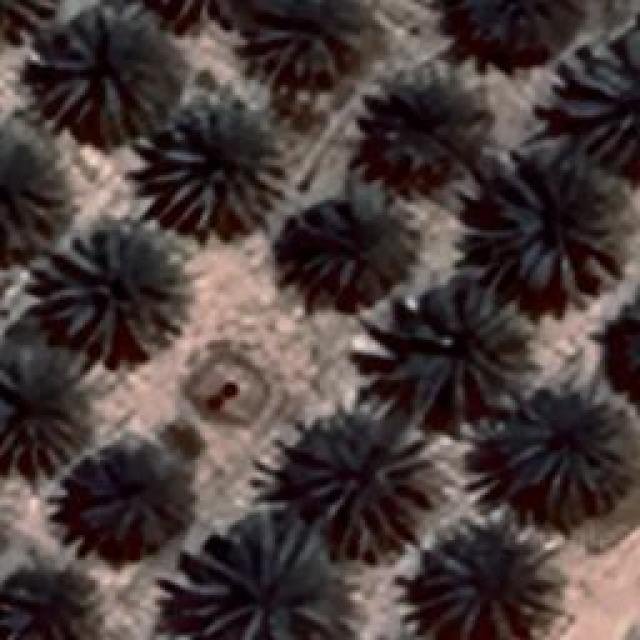PalmTree: (72, 24, 512, 136), (292, 408, 450, 560), (470, 162, 630, 300), (385, 280, 533, 422), (35, 228, 185, 362), (148, 100, 282, 235), (39, 10, 172, 140), (500, 388, 628, 508), (290, 178, 420, 292), (195, 512, 310, 640), (412, 540, 546, 635), (552, 30, 638, 168), (372, 75, 486, 175), (0, 347, 80, 475), (84, 447, 178, 555), (245, 0, 360, 80), (4, 570, 108, 640), (617, 278, 640, 407), (136, 0, 256, 24), (0, 0, 58, 47), (624, 276, 640, 407), (627, 276, 640, 404)
